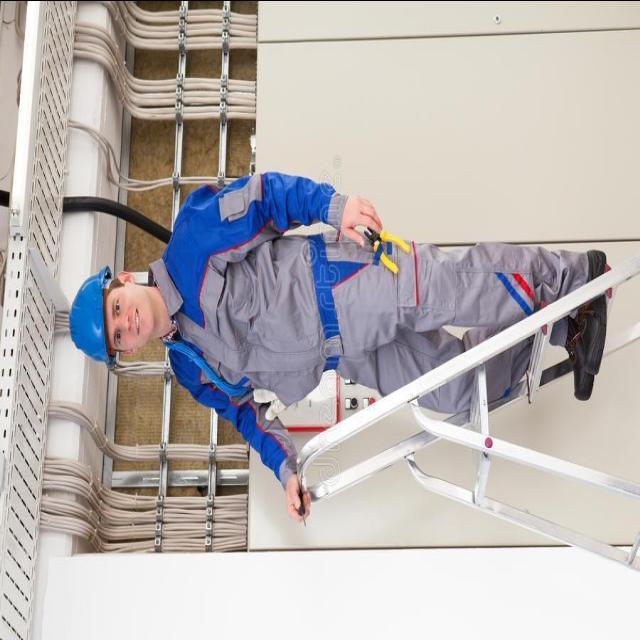helmet: (68, 252, 114, 390)
